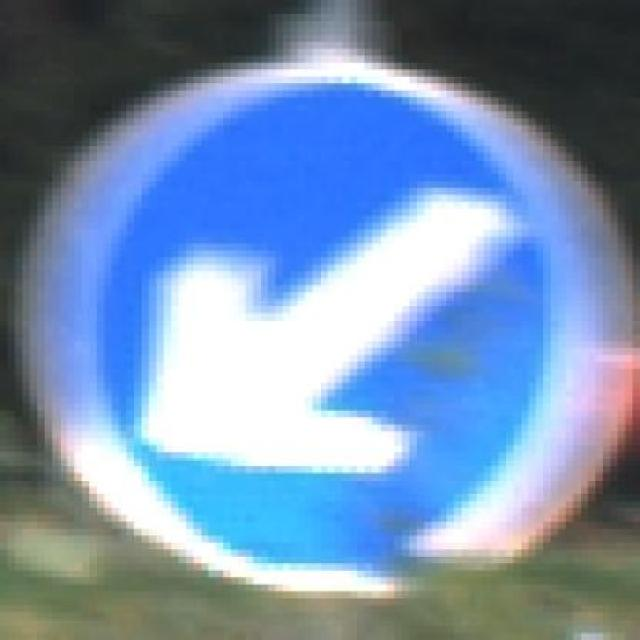Keep-Left: (22, 63, 603, 585)
